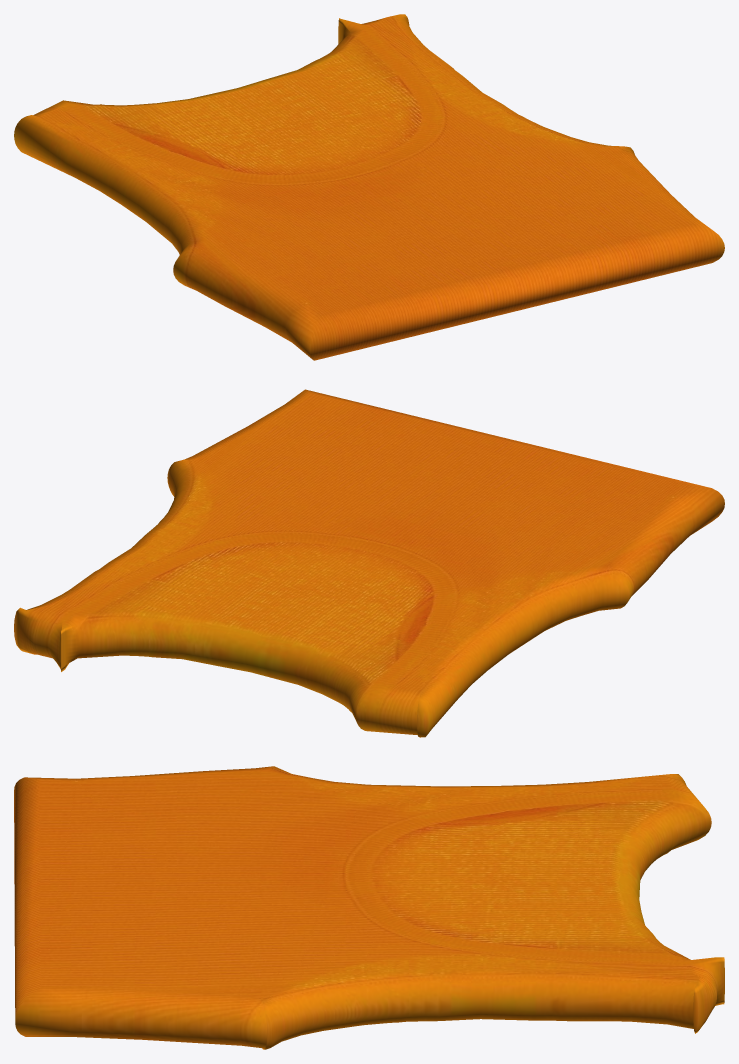
Rendered from option4.obj.
3 views of the same model, one above another, from view 1: azimuth 30°, elevation 25°; view 2: azimuth 150°, elevation 25°; view 3: azimuth 270°, elevation 25° (orthographic). The views are drawn at different scales.
Size of the model in its own units: 29.06 by 2.5 by 34.27.
1 material, 1 textured.
